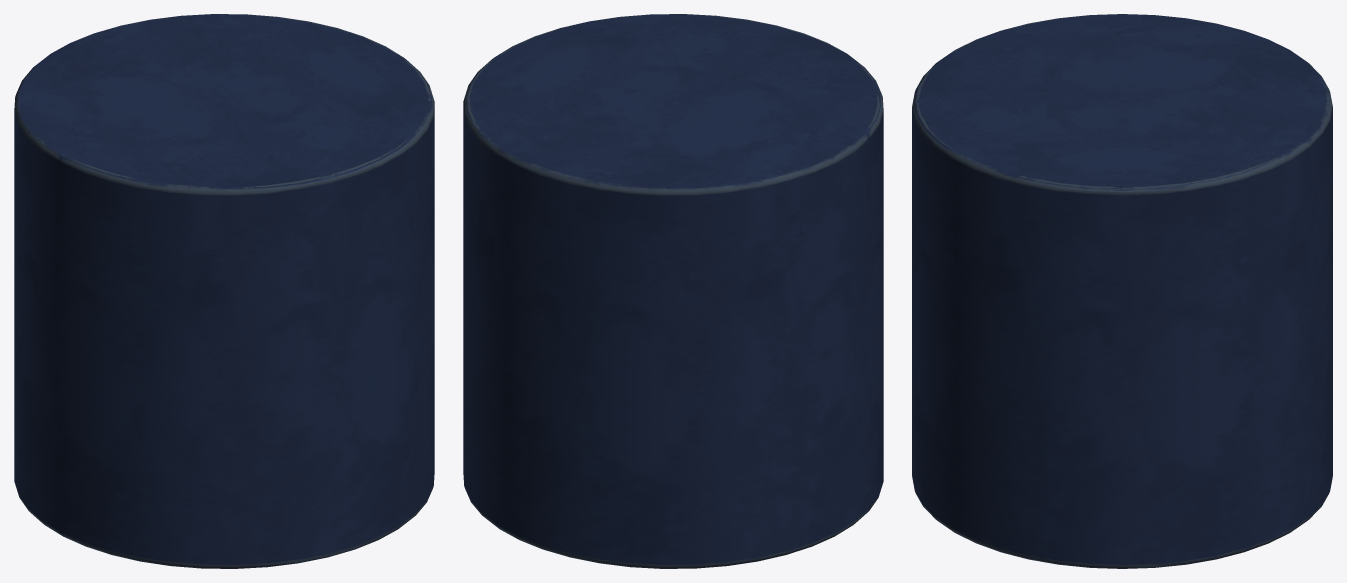
Rendered from PBRcylinder.glb.
The picture shows the model from 3 angles, left to right: view 1: azimuth 30°, elevation 25°; view 2: azimuth 150°, elevation 25°; view 3: azimuth 270°, elevation 25°; orthographic projection.
Visible parts, largest first — view 1: PBRcylinder; view 2: PBRcylinder; view 3: PBRcylinder.
Part boxes in pixels (x1=…): PBRcylinder: x1=14, y1=14, x2=434, y2=568; PBRcylinder: x1=463, y1=14, x2=883, y2=568; PBRcylinder: x1=912, y1=14, x2=1332, y2=568.
Bounding box in the file's own units: 0.2 × 0.2 × 0.2.
Materials: 1 (1 with a texture image).
